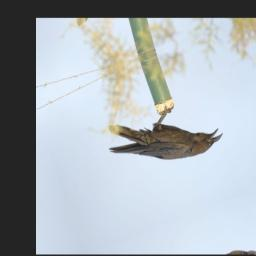Crow: (100, 87, 229, 190)
